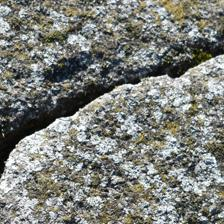Crack: (2, 23, 213, 147)
